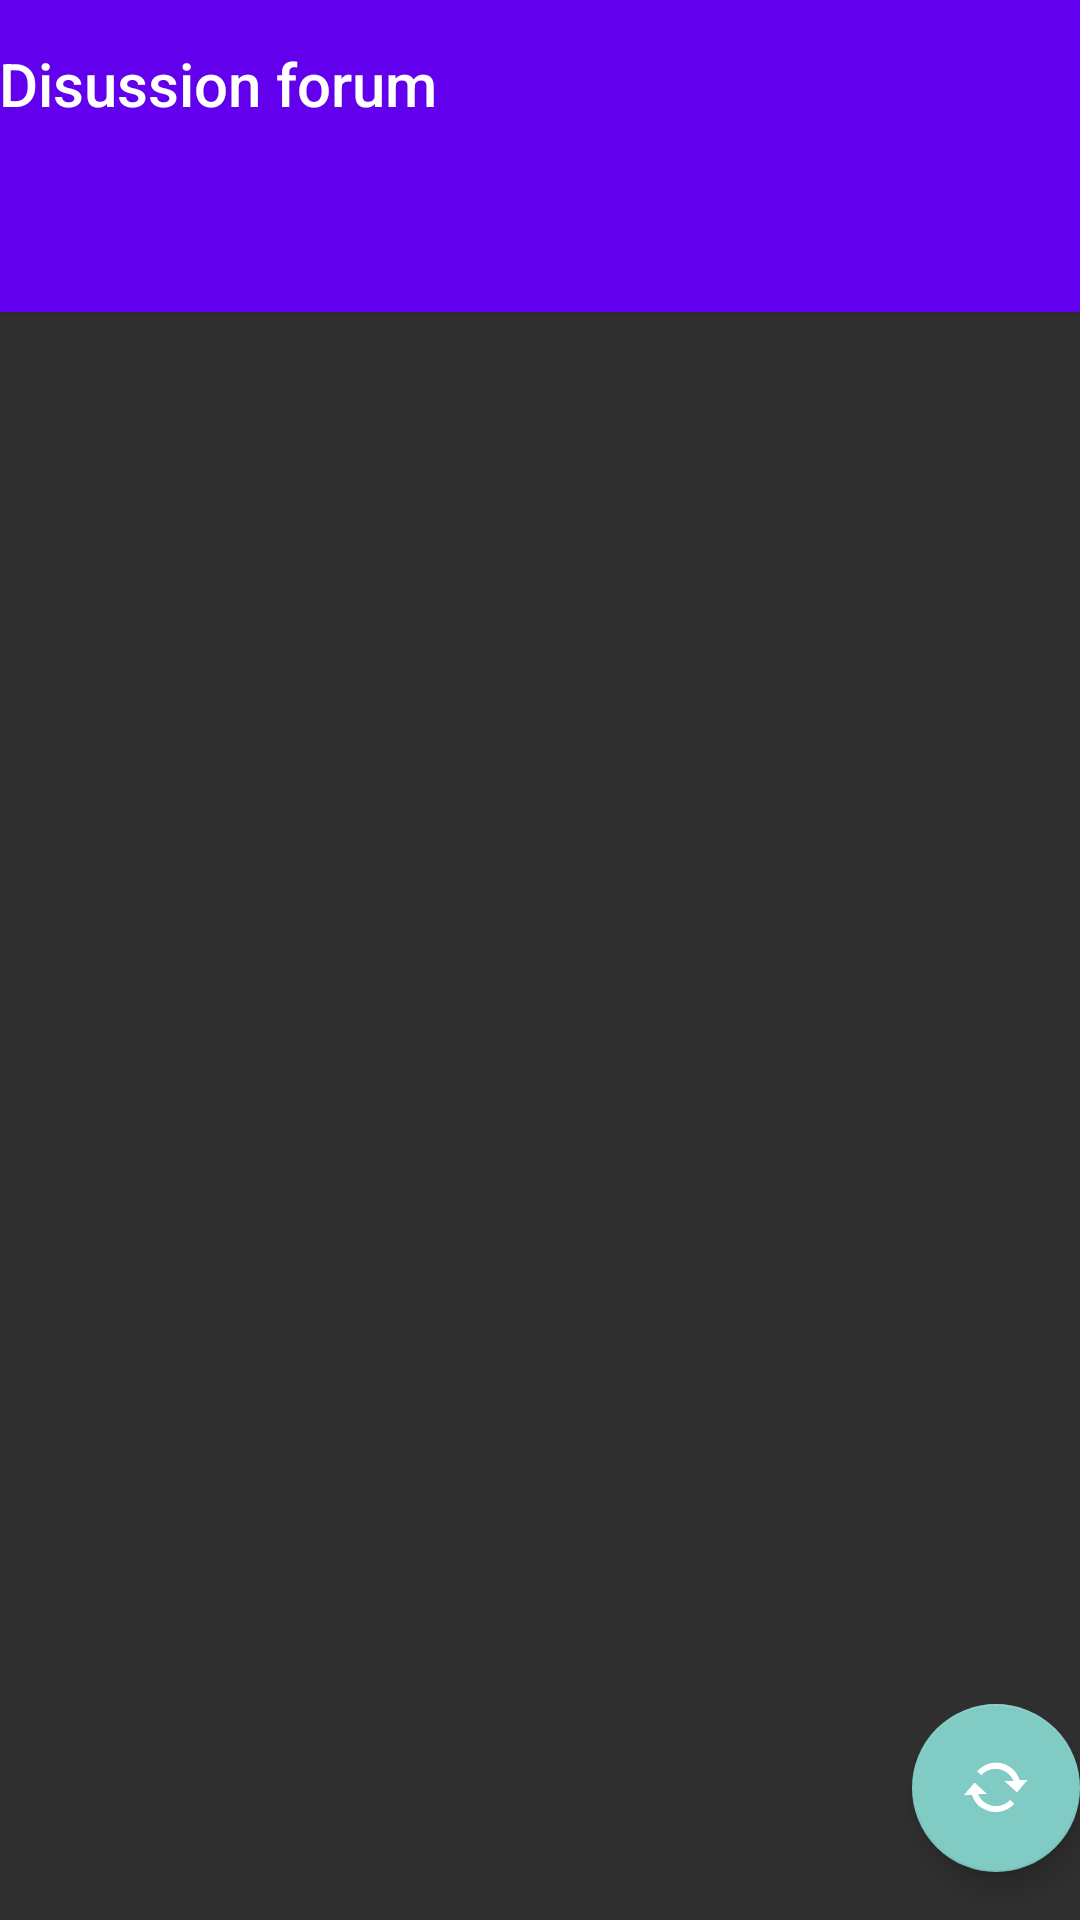

Screen size 1080 × 1920. Icon name, then its box in pixels as box(x1, y1, x2, y2):
sync noanim: box(912, 1704, 1080, 1872)
